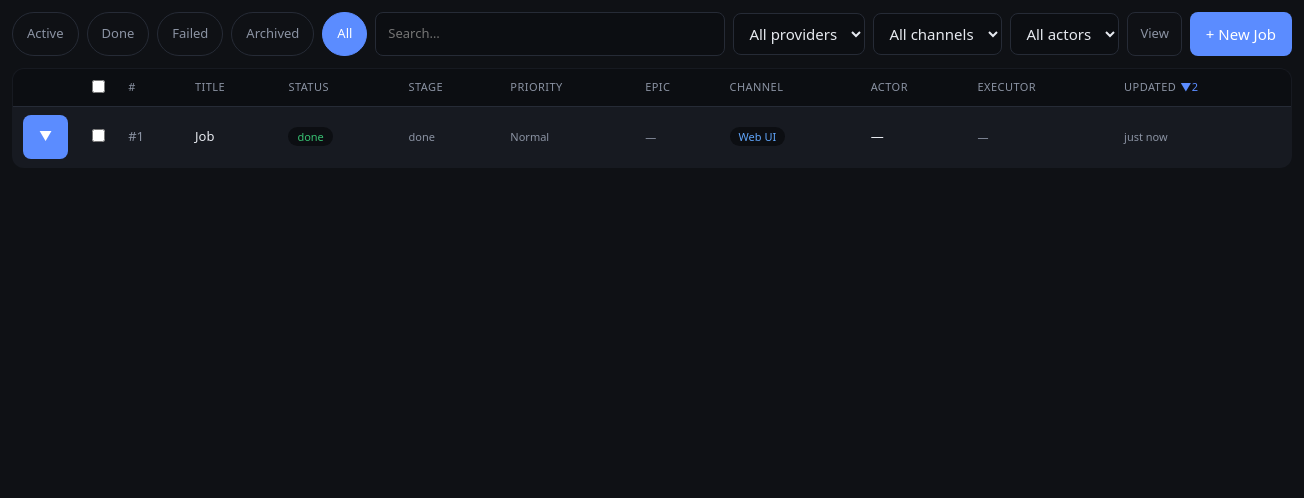
Test: JobTable inline expand accordion › clicking the chevron a second time collapses the row again
Check: the text "Job" is shown, box x1=195 y1=127 x2=214 y2=145
What coordinates should you click on to do the following:
click the button "▼"
I would click on:
 (46, 136)
Its box is x1=23 y1=114 x2=68 y2=158.
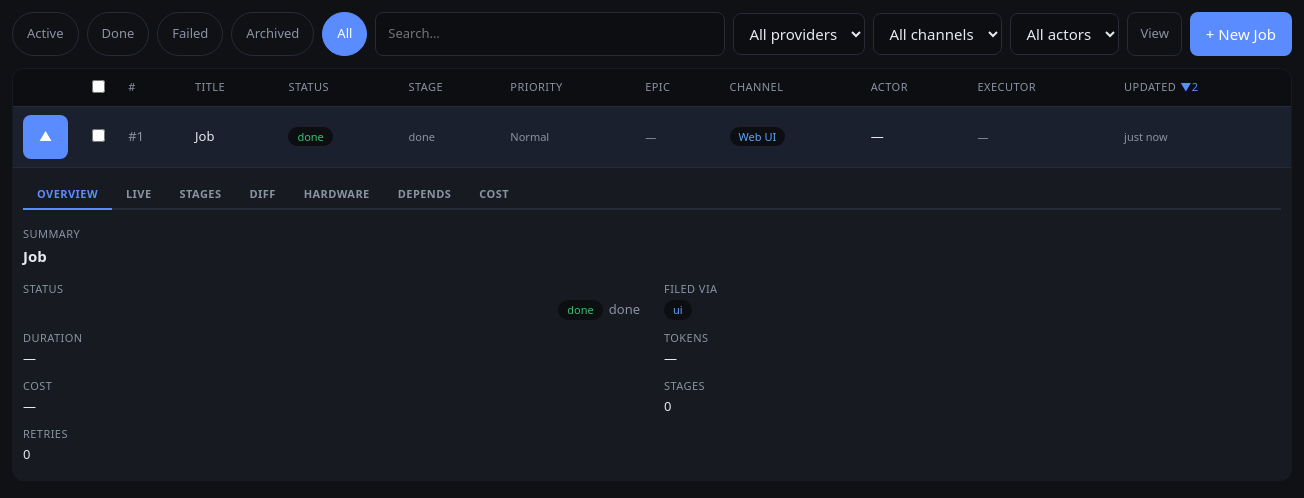
Check: the button "OVERVIEW" is shown, box x1=23 y1=180 x2=112 y2=210
What coordinates should you click on to do the following:
click the button "▲"
I would click on:
 (46, 136)
Its box is x1=23 y1=114 x2=68 y2=158.
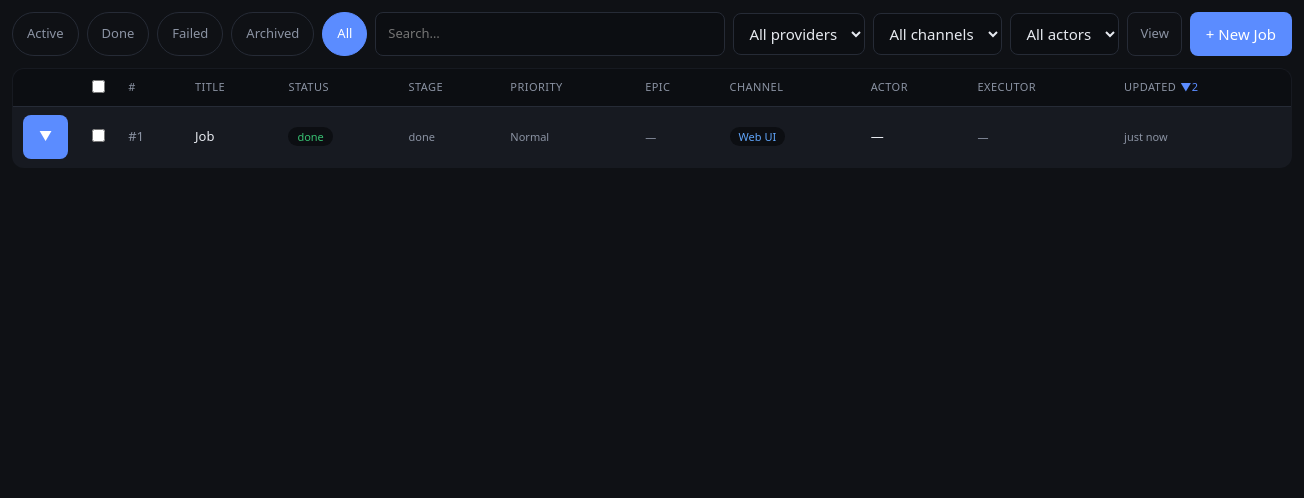
Check: the button "OVERVIEW" is gone
